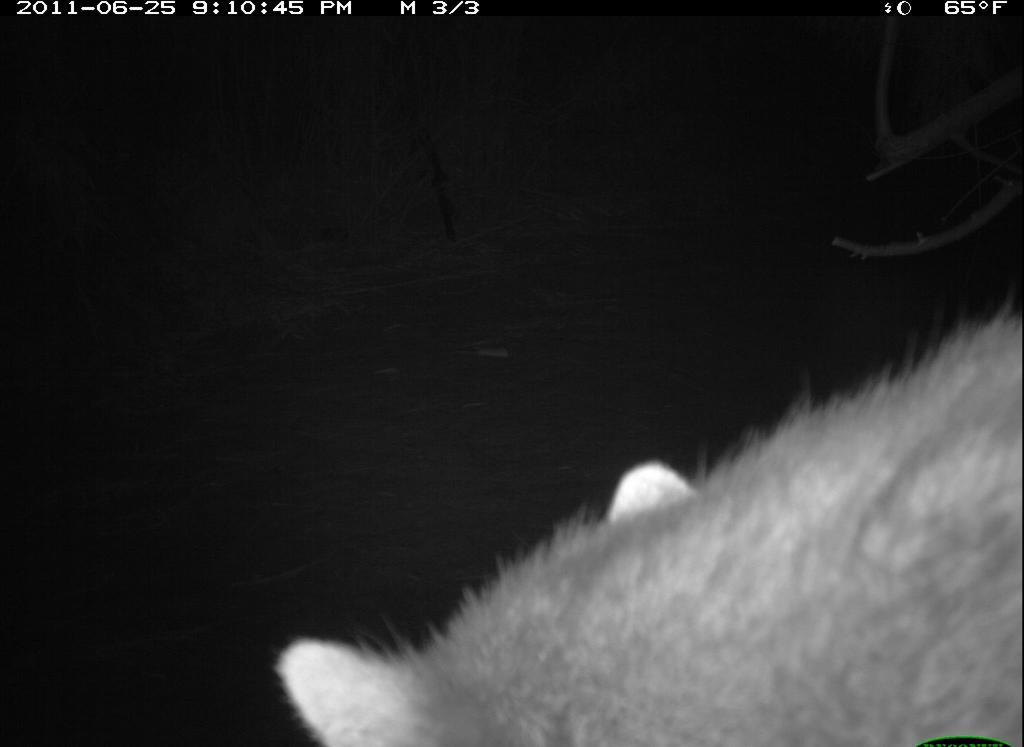raccoon: (274, 290, 1022, 747)
